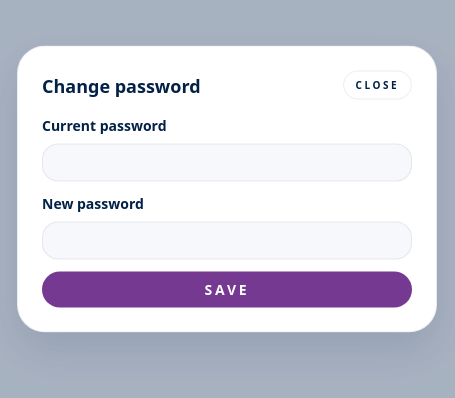
Test: ChangePasswordDialog › shows an error message when the backend rejects the change
Type "wrong" into the password field labelled "Current password" at point(227, 162), box left=42, top=144, right=412, bottom=182
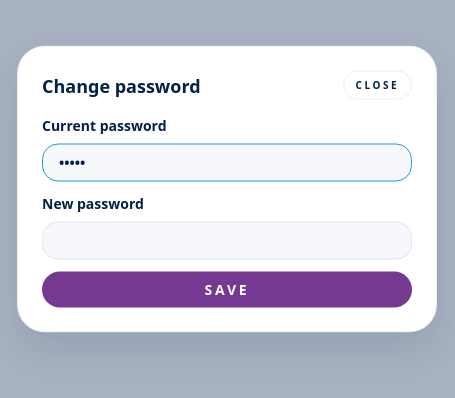
Type "newpassword" into the password field labelled "New password" at point(227, 240), box left=42, top=222, right=412, bottom=260
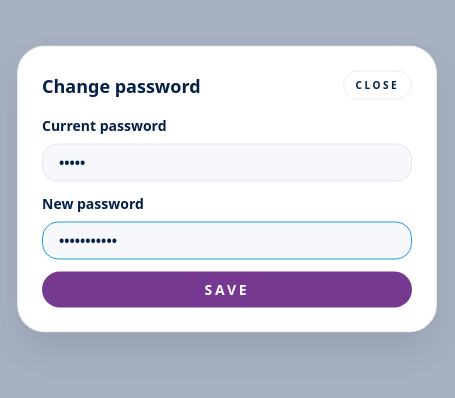
Click the button "Save" at point(227, 290), box left=42, top=272, right=412, bottom=308
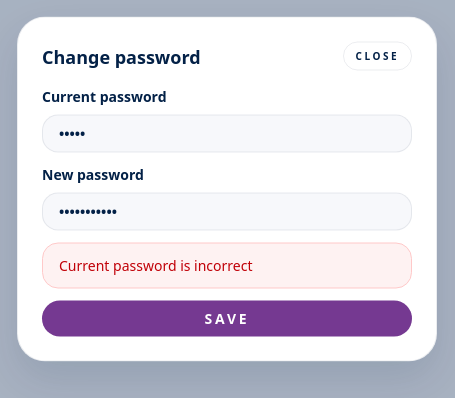
Check: the text "Current password is incorrect" is shown, box left=42, top=242, right=412, bottom=288
